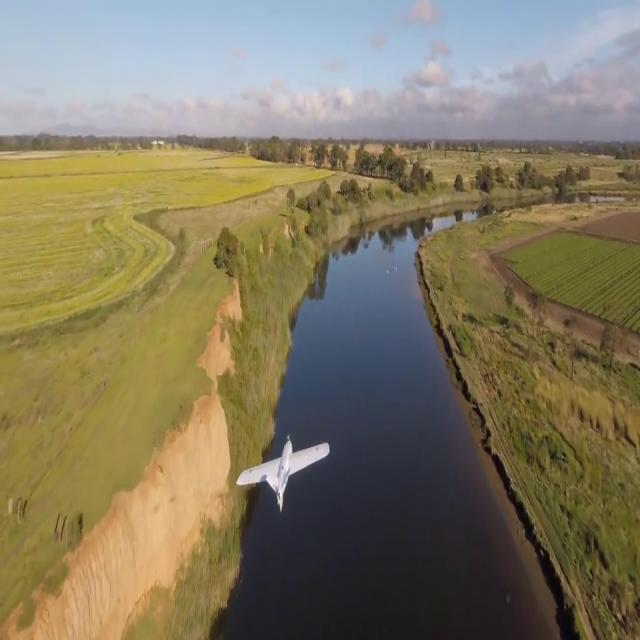iha: (270, 472, 298, 478)
